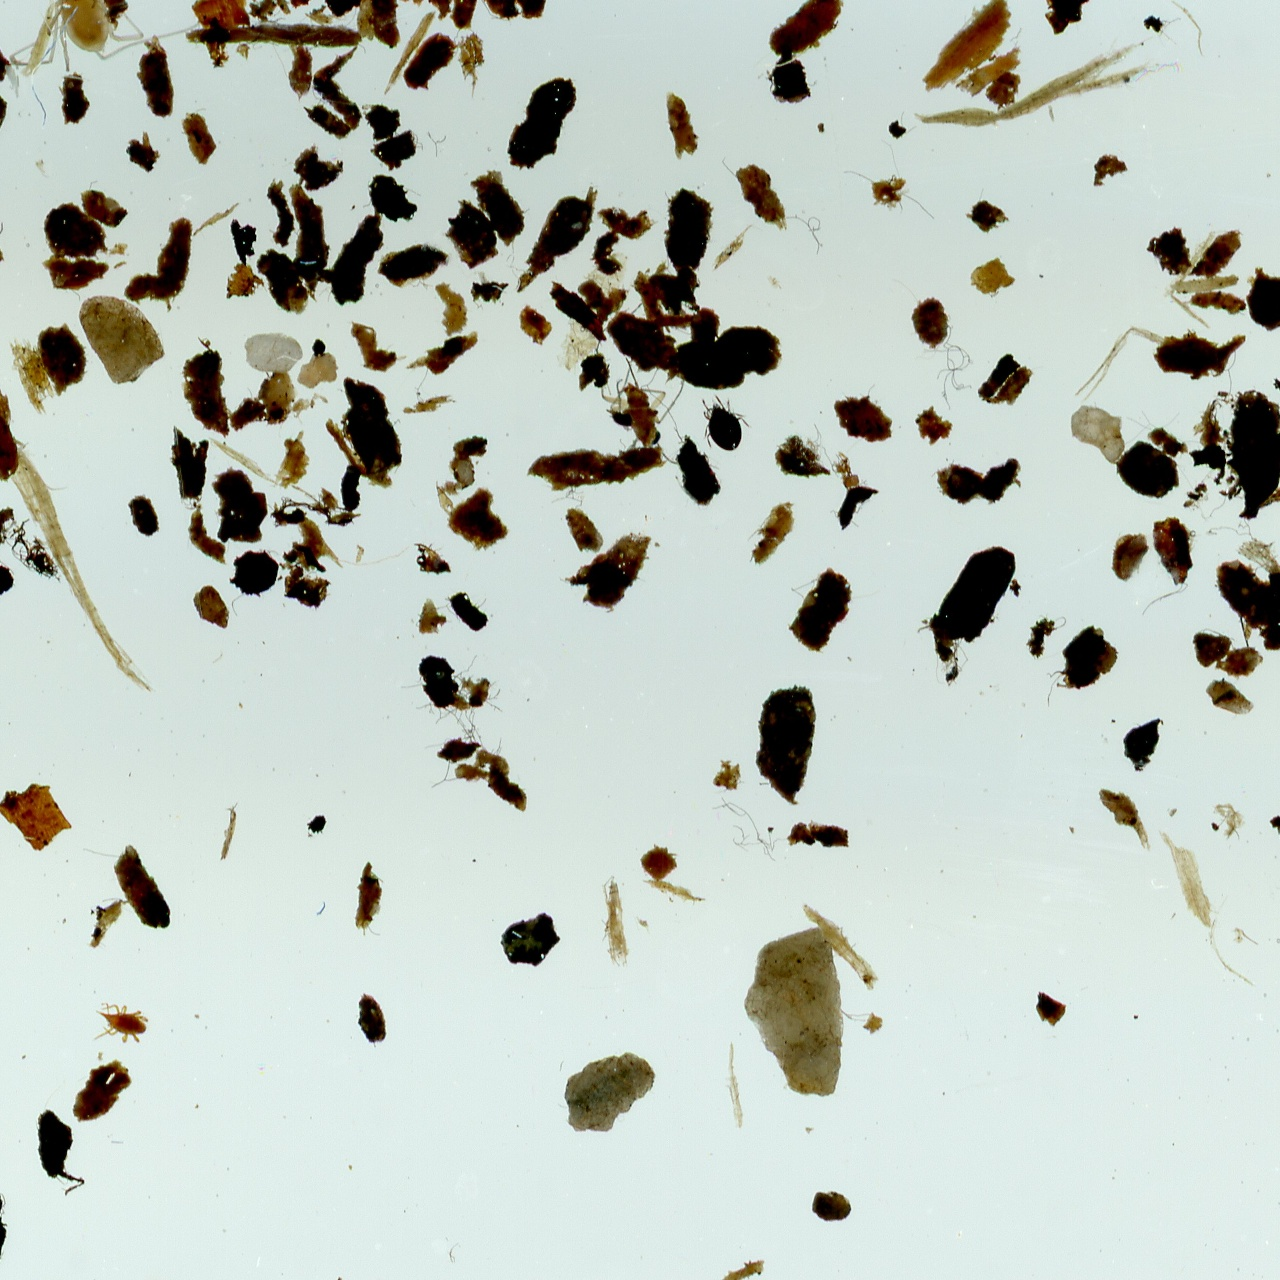arthropod: (6, 0, 202, 77), (602, 359, 690, 449), (699, 390, 753, 454), (89, 1000, 150, 1046)
